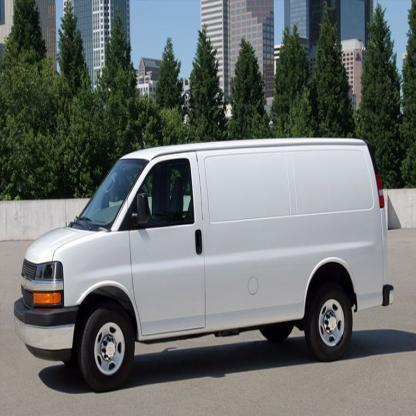Vehicle: (14, 140, 397, 394)
